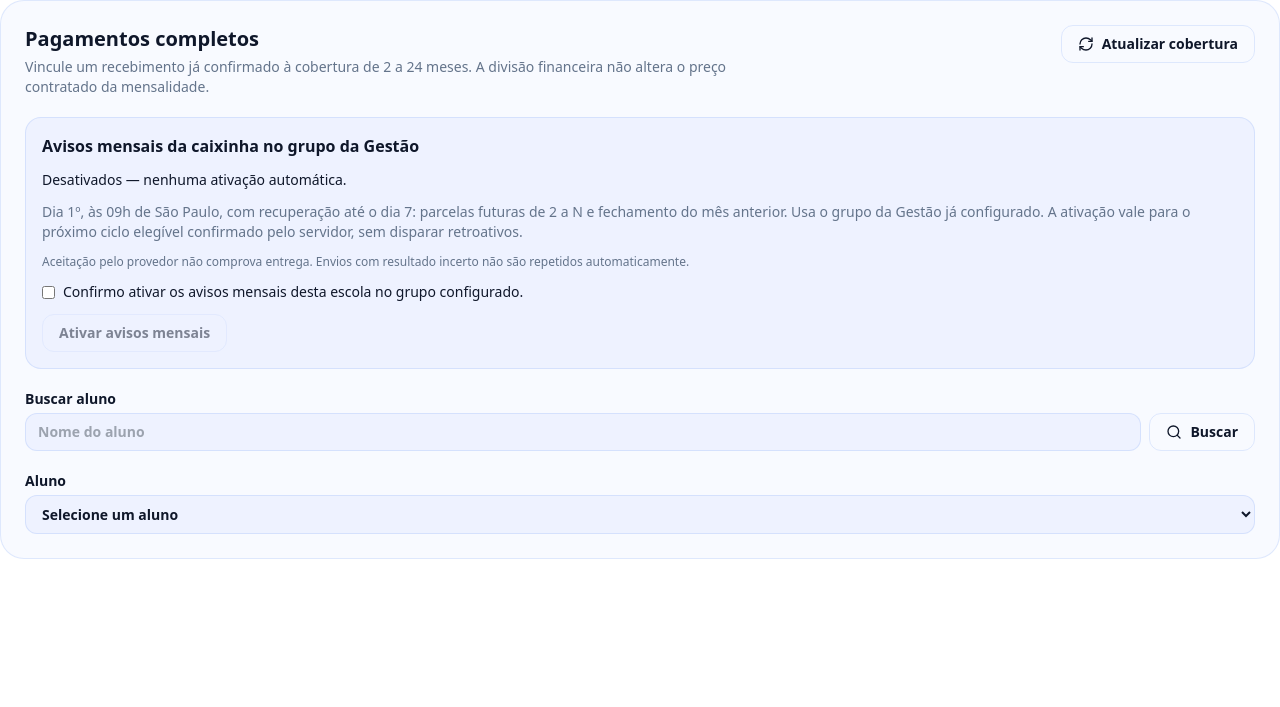
pagamentos completos na direção › não oferece pagamento aguardando crédito nem de outro aluno
Select "Aluna A" in the dropdown labelled "Aluno". click: (640, 514)
box: [25,495,1255,534]
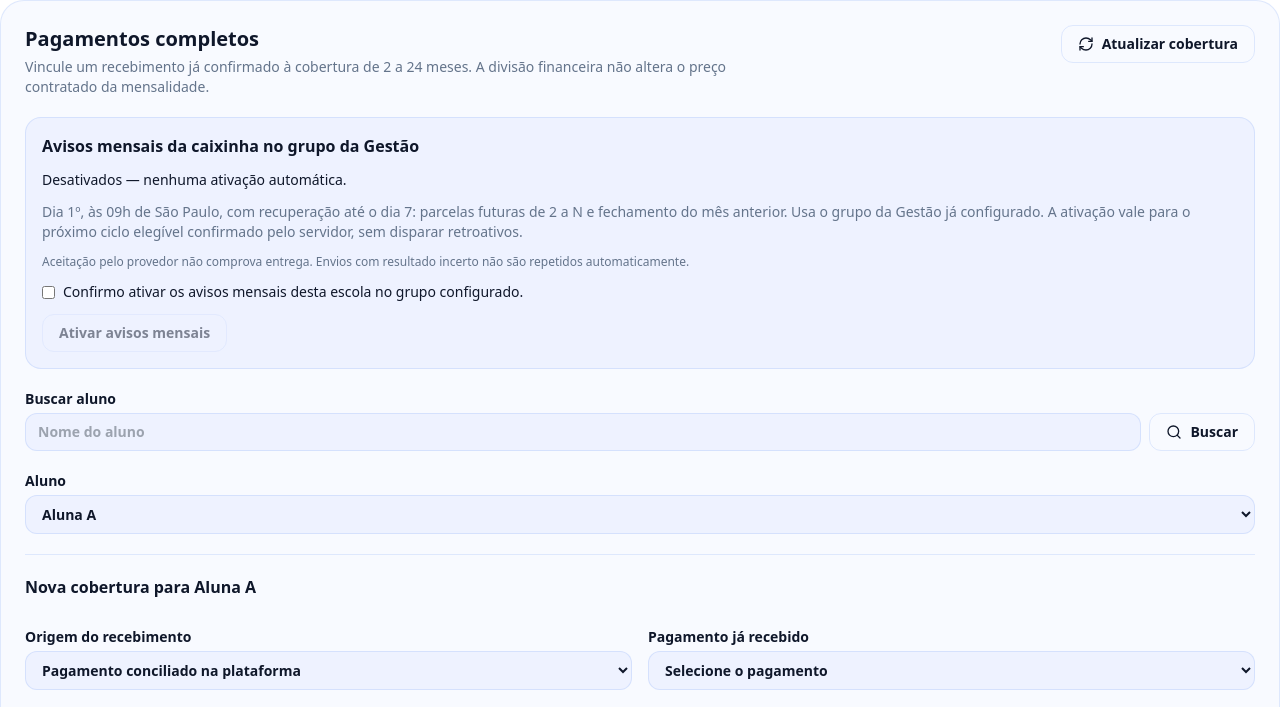
Expected: the text "Nova cobertura para Aluna A" is shown, [25,575,256,599]
